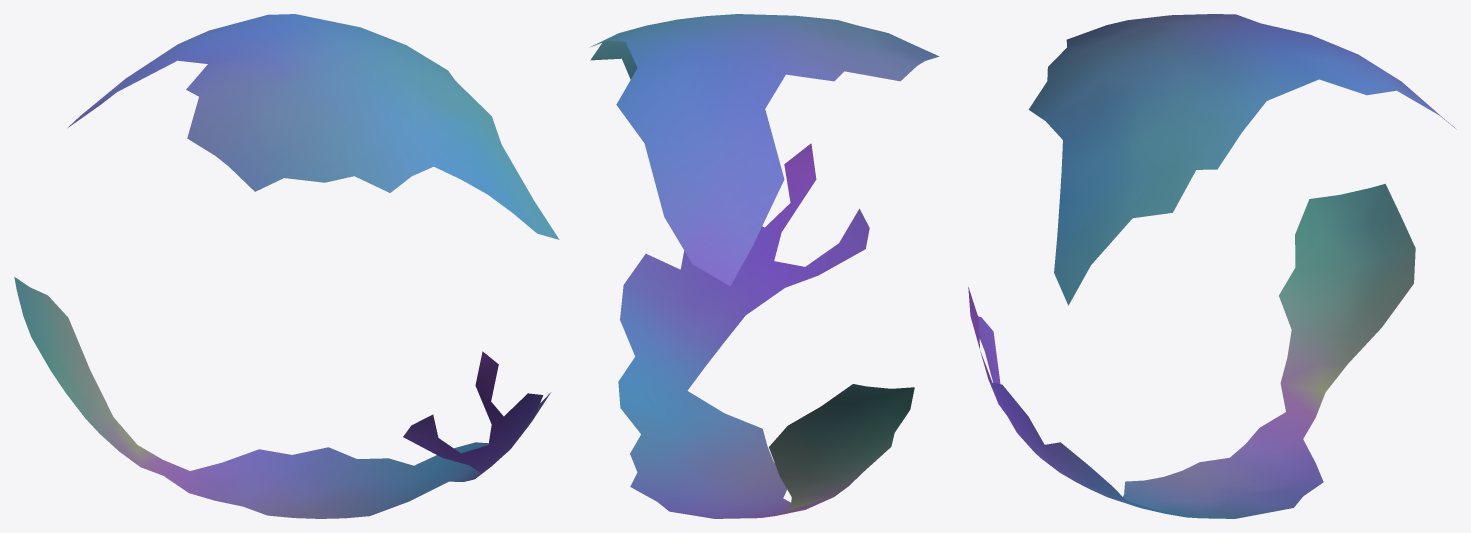
3 renders of one model, left to right at view 1: azimuth 30°, elevation 25°; view 2: azimuth 150°, elevation 25°; view 3: azimuth 270°, elevation 25°, orthographic. The views are drawn at different scales.
Visible parts, largest first — view 1: starcloud51; view 2: starcloud51; view 3: starcloud51.
Part boxes in pixels (x1,y1,x2,y2): starcloud51: (14, 14, 559, 518); starcloud51: (590, 14, 939, 518); starcloud51: (968, 14, 1456, 518).
Size of the model in its own units: 0.468 by 0.4972 by 0.5.
